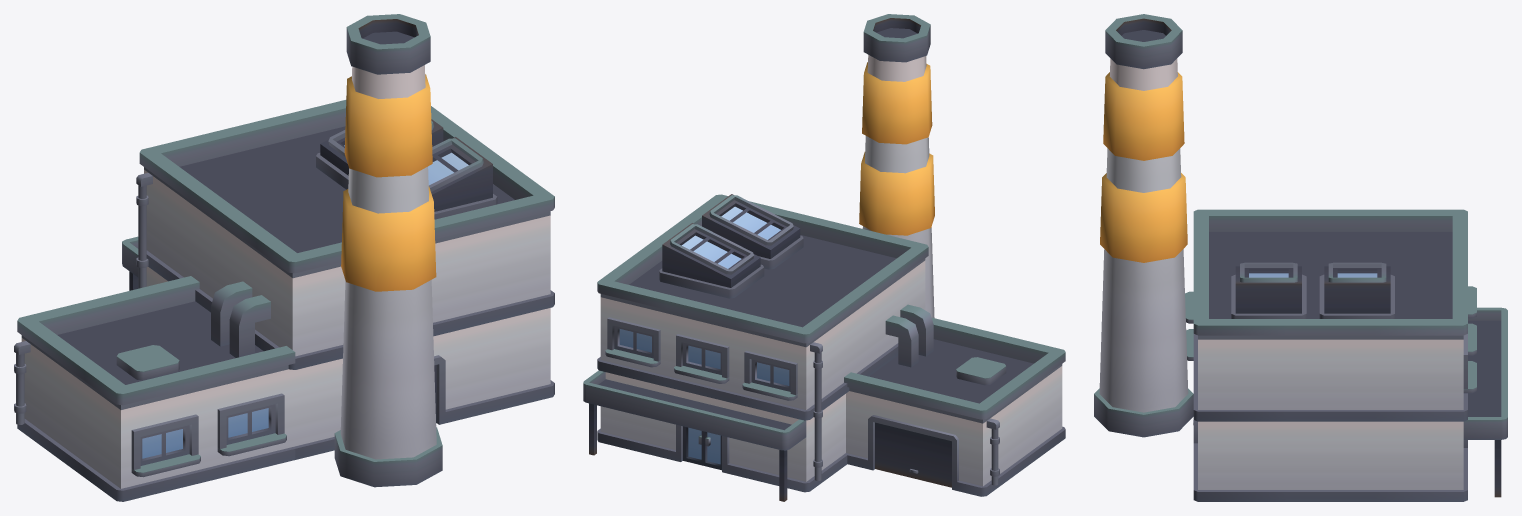
Rendered from ind_building_l.glb.
3 renders of one model, left to right at view 1: azimuth 30°, elevation 25°; view 2: azimuth 150°, elevation 25°; view 3: azimuth 270°, elevation 25°, orthographic. The views are drawn at different scales.
Visible parts, largest first — view 1: building-l; view 2: building-l; view 3: building-l.
Boxes of the visible parts, x1,y1,x2,y2 form: building-l: (14, 14, 554, 501); building-l: (583, 14, 1065, 501); building-l: (1094, 14, 1507, 501).
Bounding box in the file's own units: 2.08 × 1.92 × 1.87.
1 material, 1 textured.
